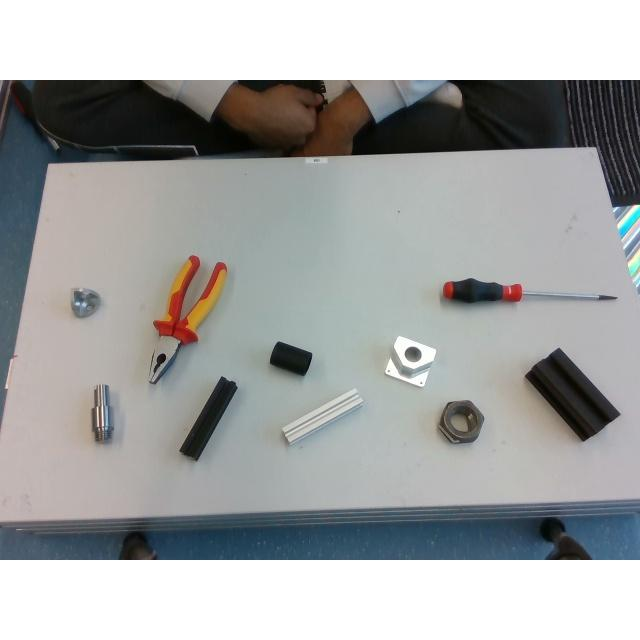Axis2: (91, 384, 112, 440)
F20_20_B: (179, 376, 239, 460)
F20_20_G: (282, 388, 364, 444)
M30: (439, 400, 485, 444)
S40_40_B: (526, 348, 622, 442)
